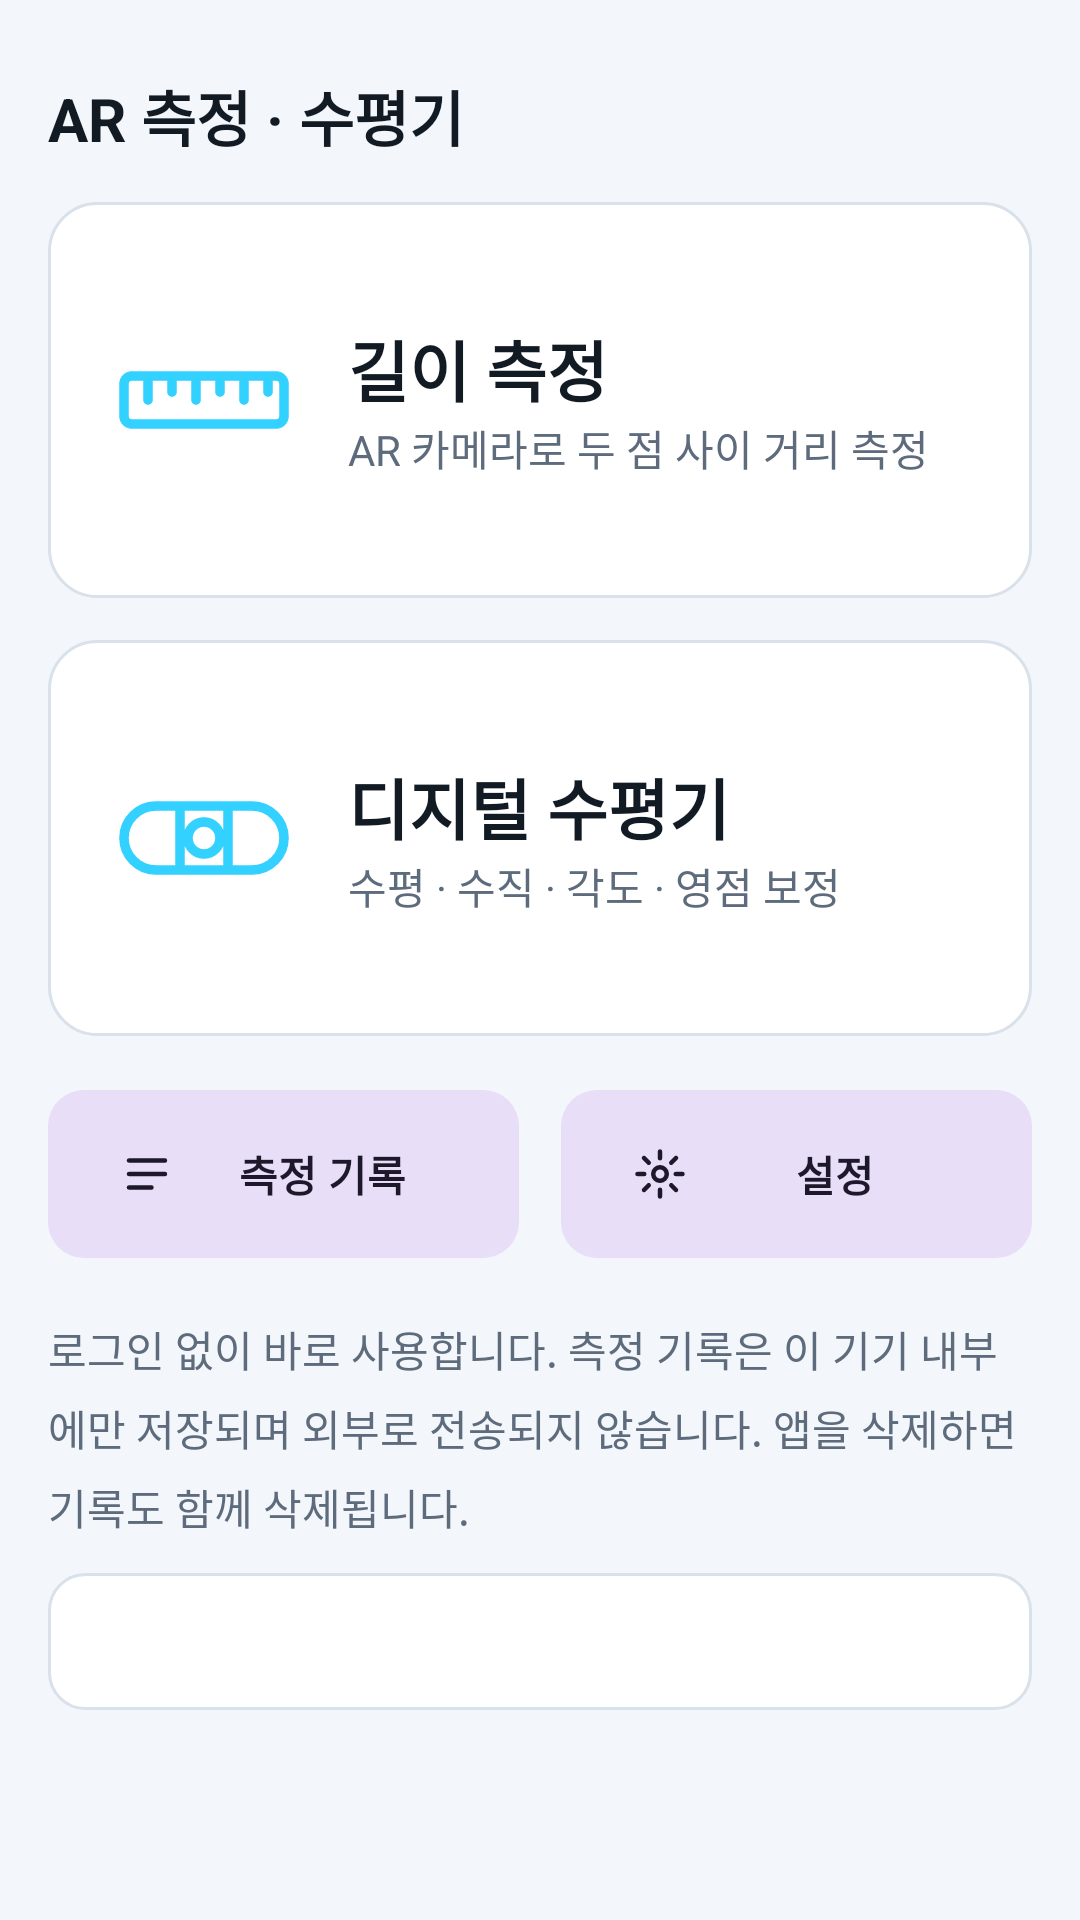

Icon bounding boxes for this 1080px x 1920px phone screenshot, format (x1, y1, x2, y2):
level: (119, 801, 289, 875)
ruler: (119, 371, 289, 429)
